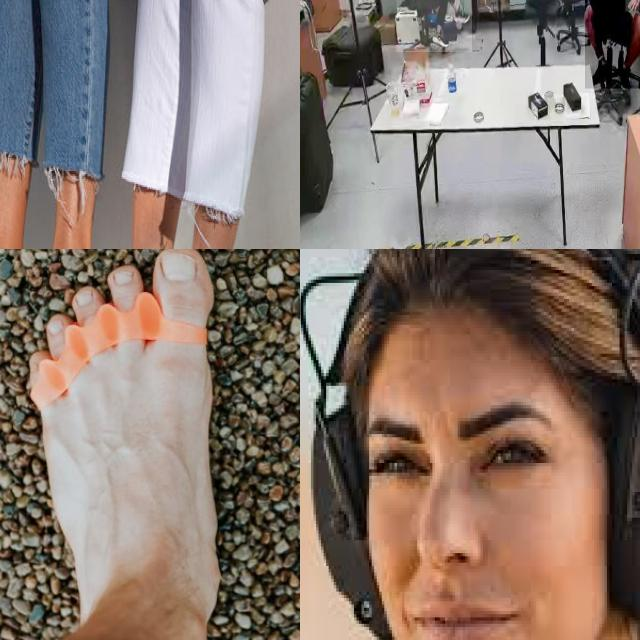Ear-protection: (483, 249, 640, 627)
Sandals: (25, 249, 218, 640)
hand_noglove: (625, 0, 640, 12)
person: (585, 0, 640, 89), (396, 0, 472, 52)
shoes: (431, 24, 449, 50), (452, 0, 470, 25)
